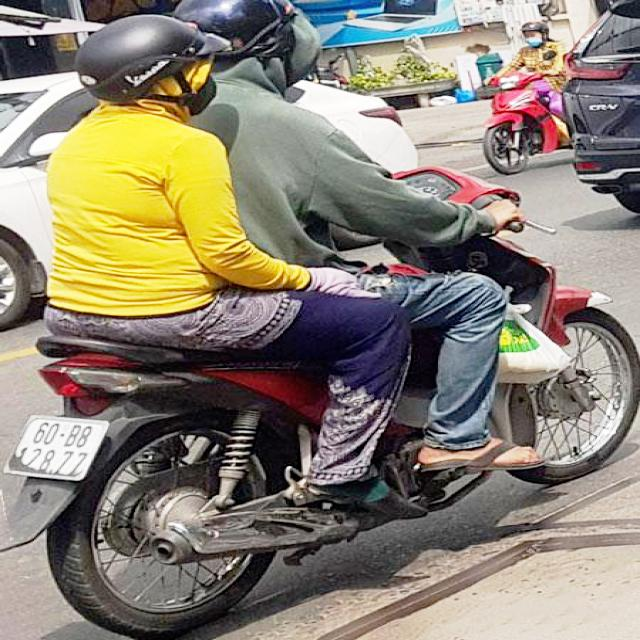license_plate: (11, 419, 109, 479)
